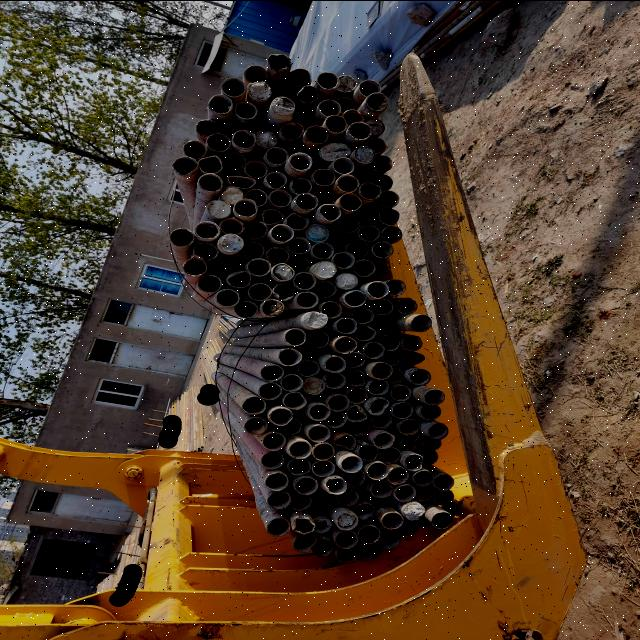pipe: (318, 141, 352, 161), (268, 50, 296, 70), (182, 256, 208, 276), (172, 156, 198, 176), (181, 138, 207, 158), (262, 431, 287, 451), (217, 232, 243, 251), (286, 439, 312, 458), (318, 70, 342, 90), (247, 80, 271, 100), (272, 95, 296, 115), (220, 76, 244, 96), (208, 94, 232, 114), (232, 128, 256, 148), (208, 198, 232, 218), (198, 172, 222, 192), (226, 270, 252, 288), (267, 406, 293, 424), (286, 457, 312, 475), (247, 256, 270, 276), (195, 220, 218, 240), (264, 472, 288, 491), (352, 258, 377, 276), (343, 288, 368, 306), (369, 361, 394, 379), (333, 530, 358, 548), (286, 236, 312, 253), (264, 246, 290, 263), (218, 217, 244, 234), (325, 113, 347, 133), (403, 500, 425, 520), (368, 460, 390, 480), (370, 478, 392, 498), (336, 510, 358, 530), (245, 220, 268, 239), (336, 174, 360, 192), (297, 84, 321, 102), (305, 124, 329, 142), (330, 250, 354, 268), (335, 272, 359, 290), (314, 260, 338, 278), (286, 212, 310, 230), (294, 192, 318, 210), (288, 152, 312, 170), (280, 120, 304, 138), (254, 130, 278, 148), (222, 150, 246, 168), (244, 159, 268, 177), (269, 223, 293, 241), (293, 270, 317, 288), (295, 290, 319, 308), (272, 282, 296, 300), (248, 282, 272, 300), (261, 298, 285, 316), (215, 287, 239, 305), (198, 274, 222, 292), (199, 154, 223, 172), (334, 335, 358, 353), (304, 310, 328, 328), (280, 373, 304, 391), (283, 391, 307, 409), (242, 396, 266, 414), (244, 416, 268, 434), (323, 476, 347, 494), (294, 476, 318, 494), (266, 491, 290, 509), (289, 492, 313, 510), (293, 534, 317, 552), (168, 228, 193, 245), (353, 323, 378, 340), (235, 100, 257, 119), (353, 205, 376, 223), (339, 192, 362, 210), (348, 121, 371, 139), (318, 98, 341, 116), (318, 202, 341, 220), (207, 132, 230, 150), (272, 262, 295, 280), (235, 300, 258, 318), (193, 242, 216, 260), (234, 198, 257, 216), (358, 525, 381, 543), (320, 300, 343, 318), (307, 330, 330, 348), (313, 168, 337, 185), (265, 146, 289, 163), (372, 317, 396, 334), (261, 451, 285, 468), (226, 174, 255, 188), (366, 92, 388, 110), (378, 207, 400, 225), (348, 240, 370, 258), (358, 223, 380, 241), (338, 214, 360, 232), (360, 181, 382, 199), (354, 144, 376, 162), (336, 74, 358, 92), (289, 68, 311, 86), (245, 64, 267, 82), (306, 222, 328, 240), (266, 170, 288, 188), (270, 187, 292, 205), (242, 240, 264, 258), (387, 466, 409, 484), (336, 489, 358, 507), (342, 454, 364, 472), (328, 394, 350, 412), (324, 354, 346, 372), (303, 376, 325, 394), (309, 424, 331, 442), (267, 517, 289, 535), (220, 186, 243, 203), (391, 401, 414, 418), (314, 280, 338, 296), (310, 242, 334, 258), (196, 119, 220, 135), (418, 403, 442, 419), (364, 116, 385, 134), (372, 240, 393, 258), (371, 154, 393, 171), (245, 188, 267, 205), (363, 341, 385, 358), (324, 372, 346, 389), (336, 316, 358, 333), (258, 382, 280, 399), (312, 442, 334, 459), (313, 459, 335, 476), (409, 368, 432, 384), (398, 418, 421, 434), (366, 280, 389, 296), (279, 348, 302, 364), (261, 364, 284, 380), (378, 188, 398, 206), (334, 156, 354, 174), (328, 232, 348, 250), (412, 314, 432, 332), (368, 396, 388, 414), (348, 404, 368, 422), (284, 327, 304, 345), (294, 516, 314, 534), (314, 538, 334, 556), (359, 79, 380, 96), (395, 484, 416, 501), (324, 410, 345, 427), (366, 136, 388, 152), (372, 173, 394, 189), (291, 177, 313, 193), (262, 208, 284, 224), (288, 255, 310, 271), (423, 388, 445, 404), (427, 422, 449, 438), (432, 511, 454, 527), (398, 517, 420, 533), (380, 447, 402, 463), (352, 306, 374, 322), (367, 378, 389, 394), (373, 432, 395, 448), (382, 512, 404, 528), (378, 532, 400, 548), (358, 542, 380, 558), (337, 546, 359, 562), (308, 404, 330, 420), (280, 418, 302, 434), (342, 108, 365, 123), (380, 333, 400, 350), (346, 468, 366, 485), (348, 387, 368, 404), (413, 470, 434, 486), (372, 412, 393, 428), (358, 444, 379, 460), (334, 434, 355, 450), (343, 351, 364, 367), (312, 189, 334, 204), (402, 352, 424, 367), (433, 474, 455, 489), (346, 368, 364, 386), (382, 225, 402, 241), (306, 156, 326, 172), (387, 278, 407, 294), (398, 297, 418, 313), (420, 448, 440, 464), (434, 488, 454, 504), (372, 298, 392, 314), (354, 503, 374, 519), (299, 360, 319, 376), (296, 114, 318, 128), (313, 516, 332, 532), (404, 454, 424, 469), (351, 420, 369, 436), (352, 168, 372, 182), (402, 336, 422, 350), (392, 386, 412, 400), (402, 434, 420, 449), (386, 367, 403, 382), (422, 436, 440, 450), (380, 350, 398, 364), (336, 96, 356, 108), (274, 90, 294, 102), (286, 146, 300, 154)
